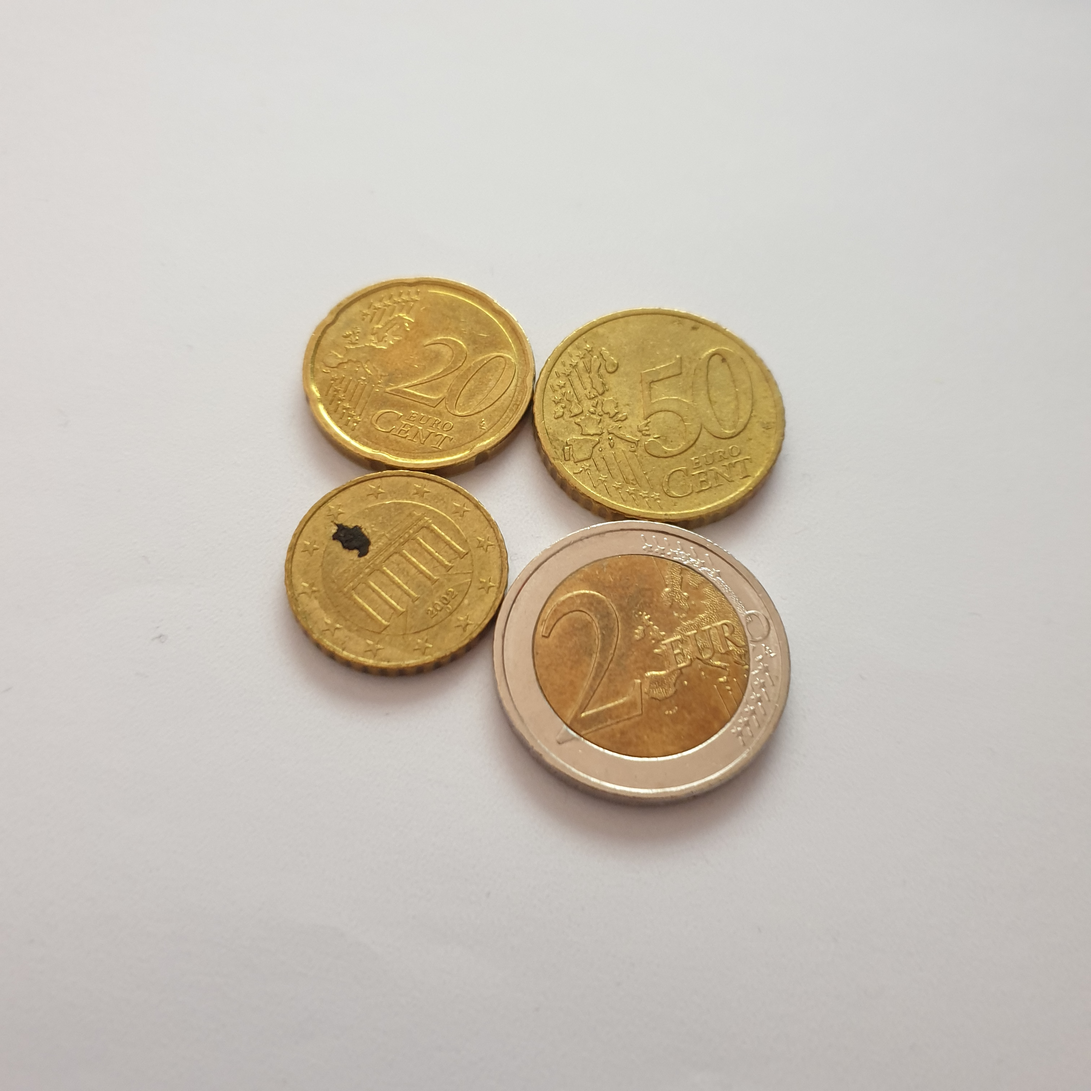10 cent: (291, 254, 546, 475), (259, 469, 514, 689)
2 euro: (489, 517, 796, 814)
50 cent: (520, 291, 802, 519)
